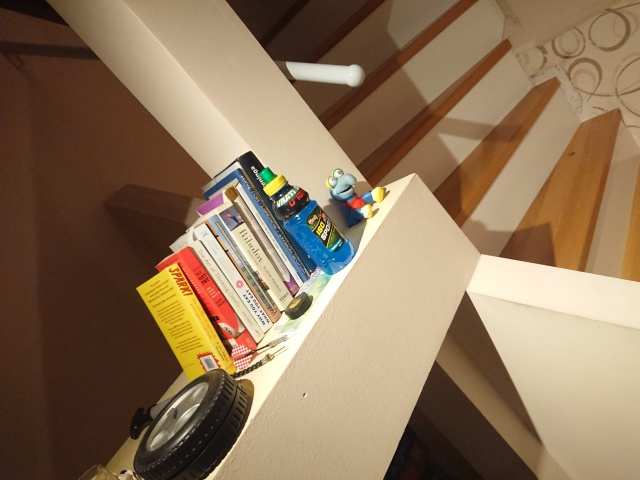Vindi Iso Sport Forest Strawberries 500mL: (257, 166, 356, 276)
